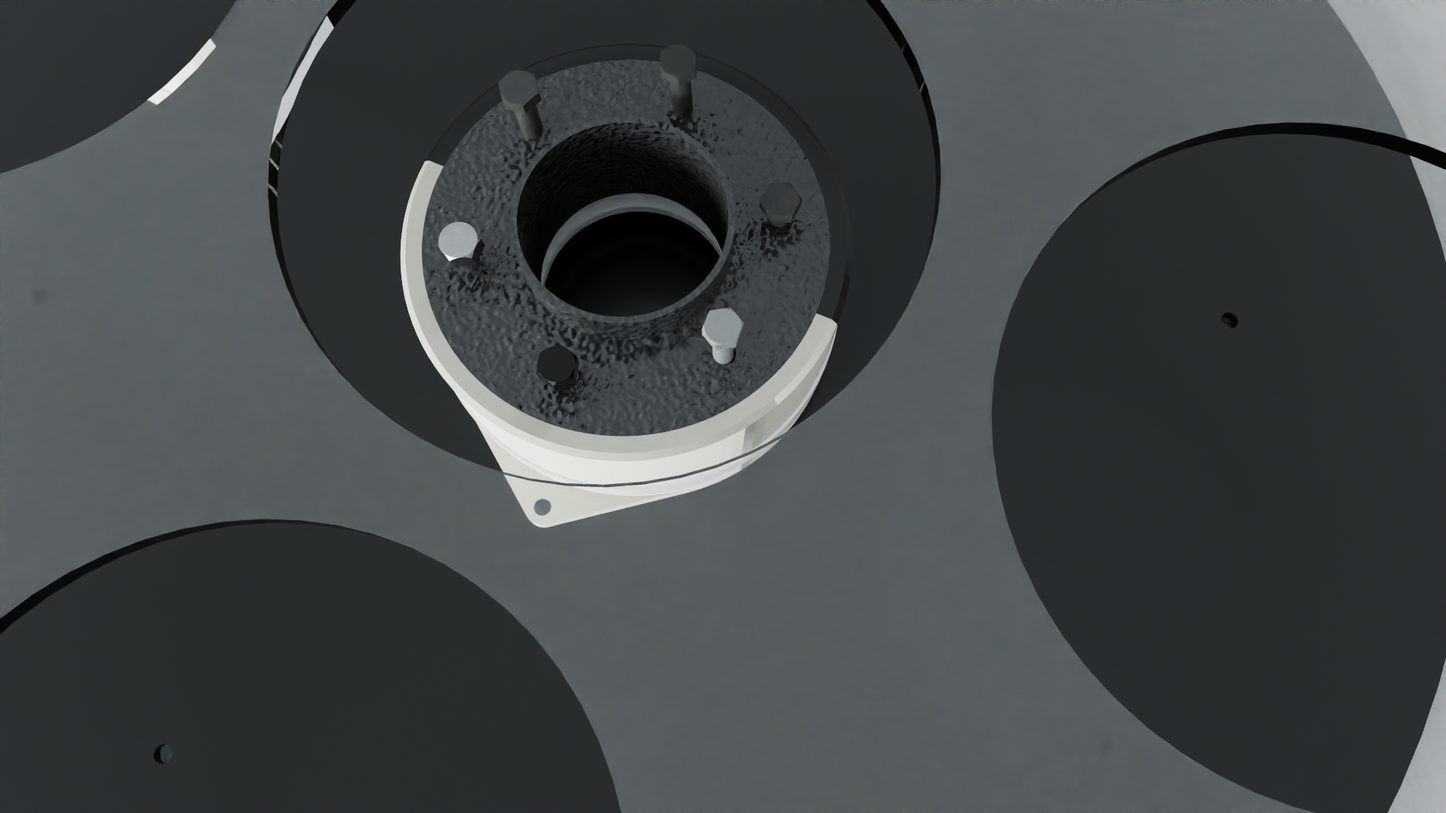bolt: (536, 345, 577, 386), (437, 222, 481, 260), (702, 308, 744, 346), (498, 69, 539, 106), (760, 183, 802, 217), (660, 43, 697, 79)
